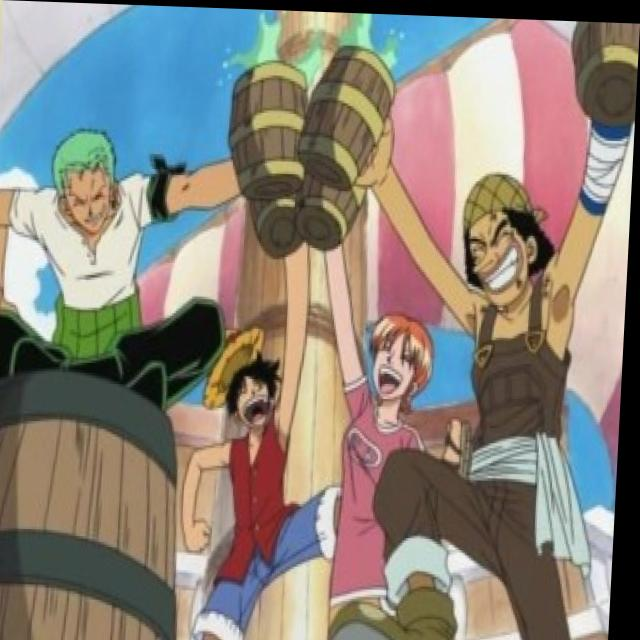Luffy: (208, 329, 296, 442)
Nami: (357, 306, 446, 410)
Usopp: (448, 147, 559, 335)
Zoro: (54, 103, 125, 259)
